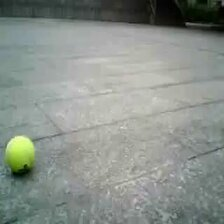tennis: (5, 134, 33, 167)
